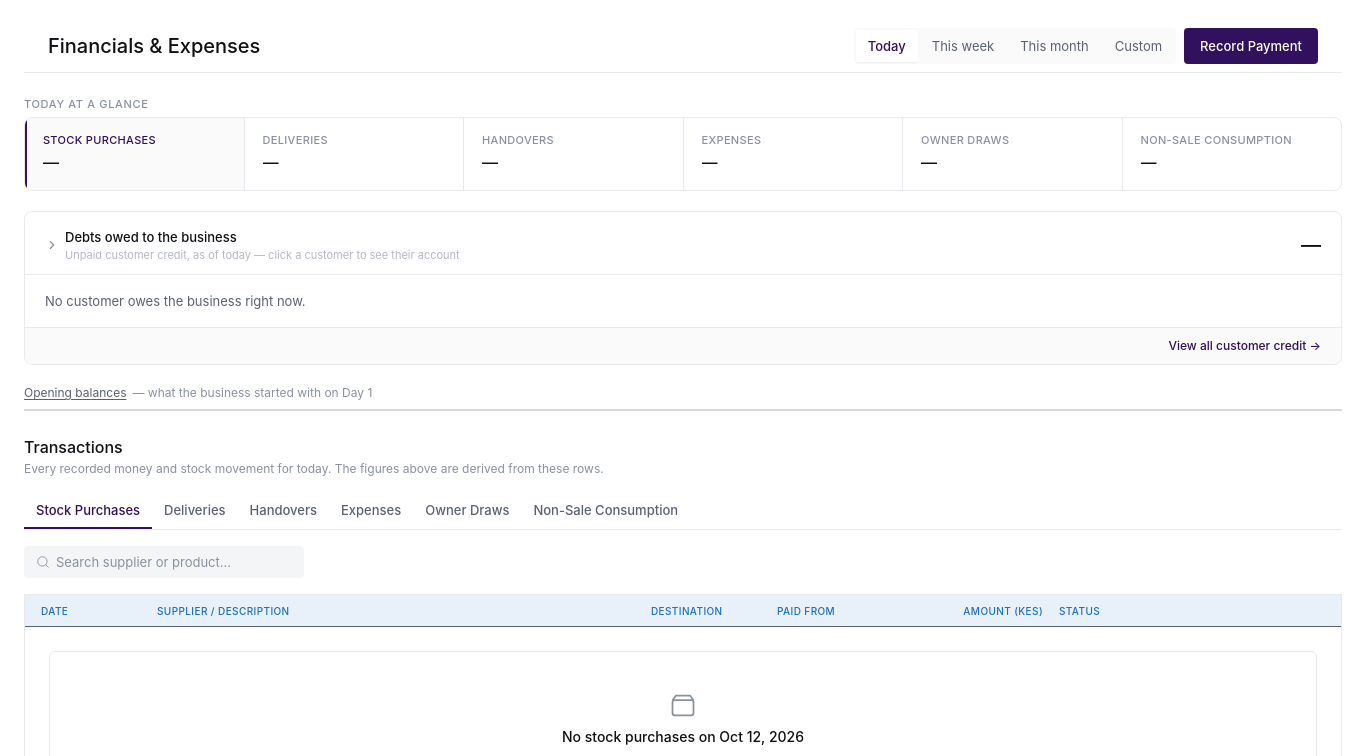
Test: /admin/financials — Deliveries tab › a voided delivery shows a Voided status and no Void action
The width and height of the screenshot is (1366, 756).
Click the tab "Deliveries" at (195, 511), box [152,493,238,529]
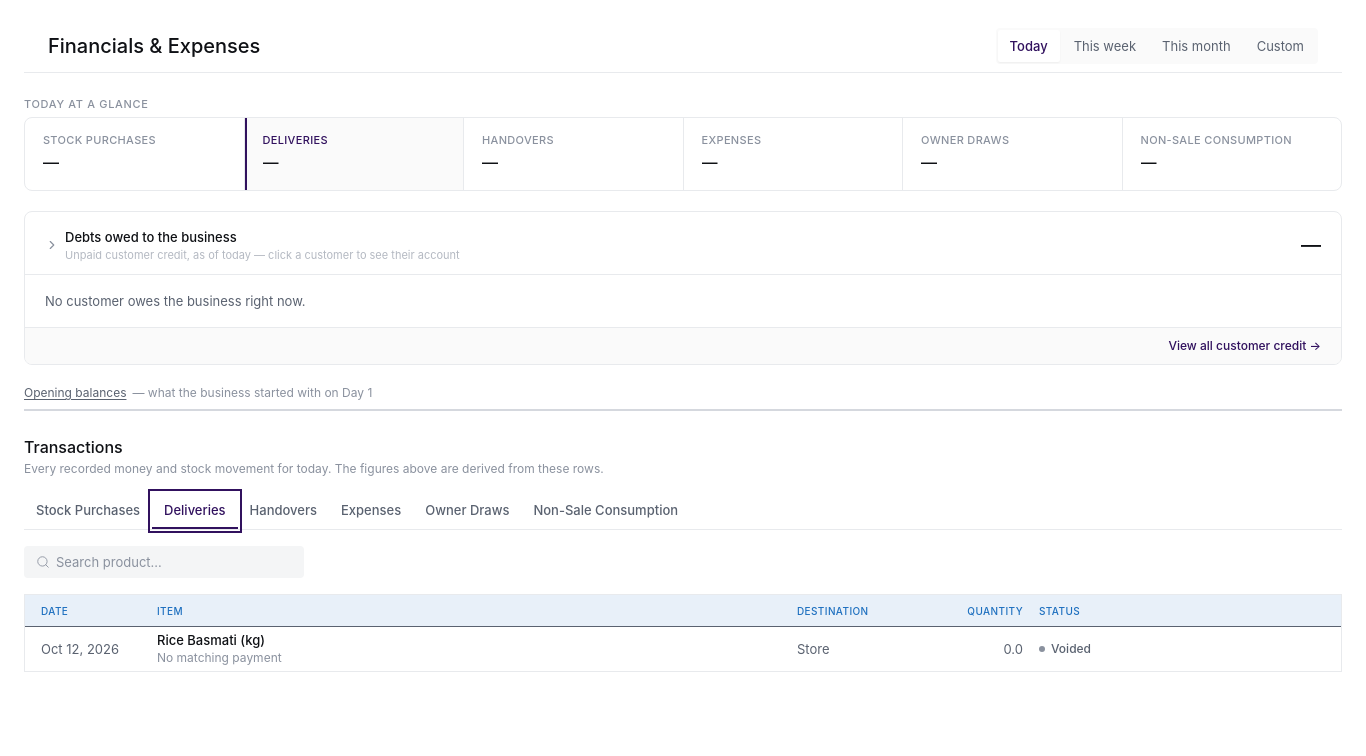
Now the text "Voided" is shown, box [1051,641,1091,657]
